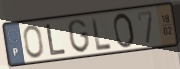7: (136, 9, 155, 46)
G: (67, 18, 92, 54)
L: (90, 15, 113, 53), (45, 22, 68, 57)
O: (112, 12, 137, 50), (22, 24, 45, 60)
